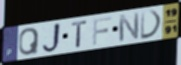D: (140, 9, 164, 41)
F: (92, 16, 113, 47)
J: (40, 21, 62, 54)
N: (117, 11, 140, 43)
Q: (17, 27, 40, 57)
T: (71, 19, 89, 49)
